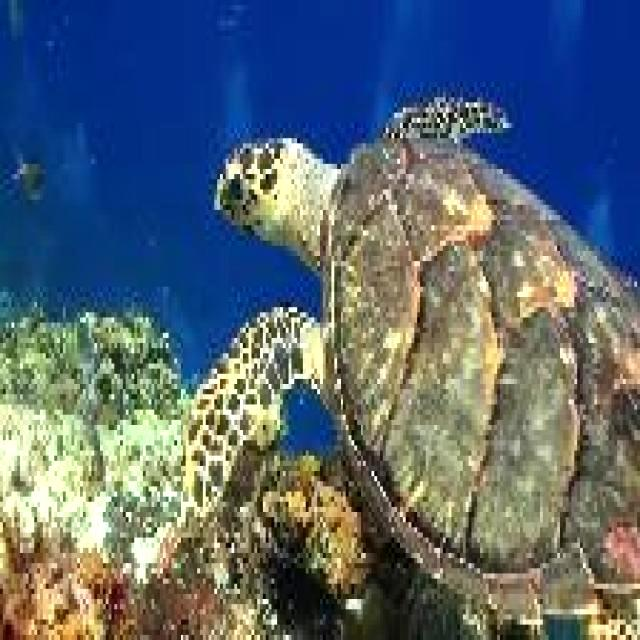Sea turtle: (177, 71, 640, 640)
